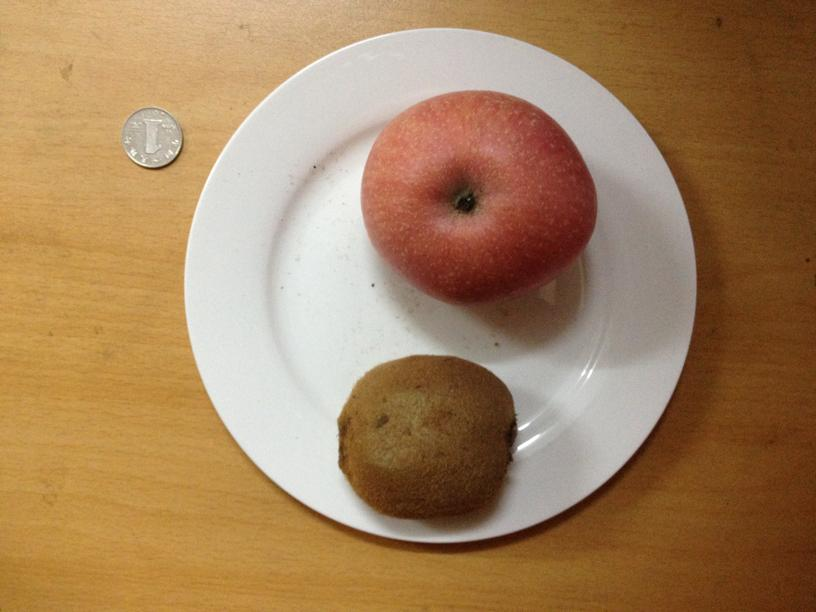apple: (368, 89, 597, 307)
coin: (121, 104, 181, 169)
qiwi: (334, 353, 516, 519)
